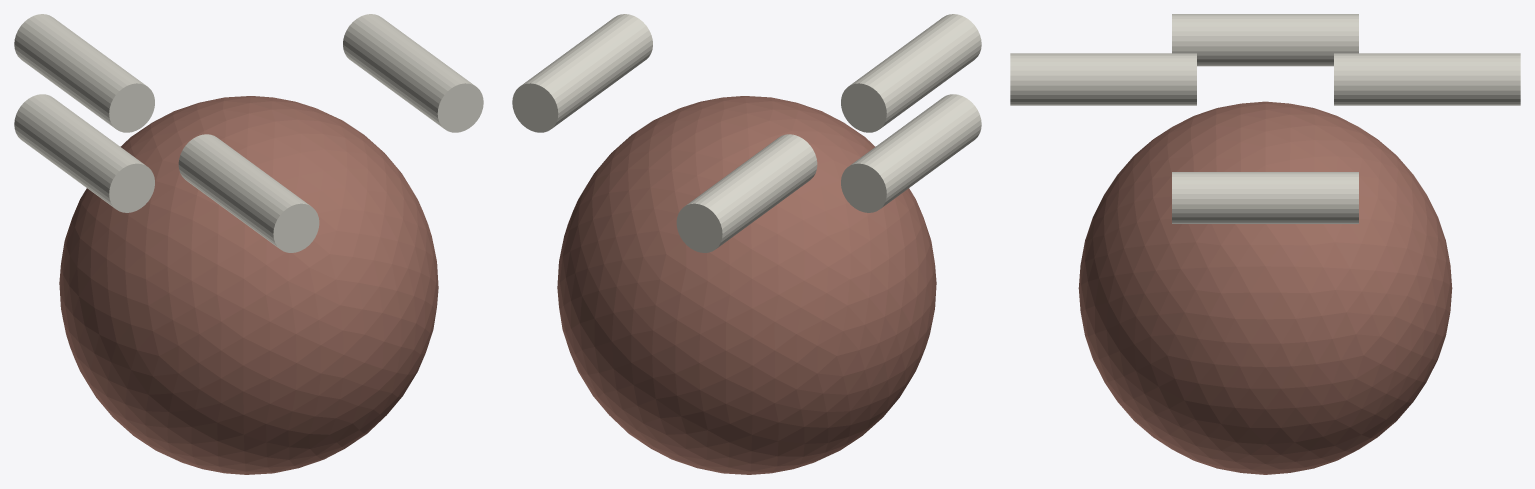
The model's file is pig-face.glb.
3 views of the same model, side by side, from view 1: azimuth 30°, elevation 25°; view 2: azimuth 150°, elevation 25°; view 3: azimuth 270°, elevation 25° (orthographic).
Visible parts, largest first — view 1: body, ear_0_0, ear_0_1, whisker_3_1, whisker_3_2; view 2: body, ear_0_0, ear_0_1, whisker_3_2, whisker_3_1; view 3: body, whisker_3_1, whisker_3_2, ear_0_0, ear_0_1.
Boxes of the visible parts, box(x1,y1,x2,y2) form: body: box(59, 96, 438, 474); ear_0_0: box(343, 14, 483, 132); ear_0_1: box(14, 94, 154, 212); whisker_3_1: box(178, 134, 319, 252); whisker_3_2: box(14, 14, 154, 132); body: box(557, 96, 936, 474); ear_0_0: box(512, 14, 652, 132); ear_0_1: box(841, 94, 981, 212); whisker_3_2: box(676, 134, 817, 252); whisker_3_1: box(841, 14, 981, 132); body: box(1078, 101, 1452, 474); whisker_3_1: box(1010, 53, 1196, 105); whisker_3_2: box(1334, 53, 1520, 105); ear_0_0: box(1172, 172, 1358, 223); ear_0_1: box(1172, 14, 1358, 66).
Size of the model in its own units: 0.342 by 0.321 by 0.4098.
